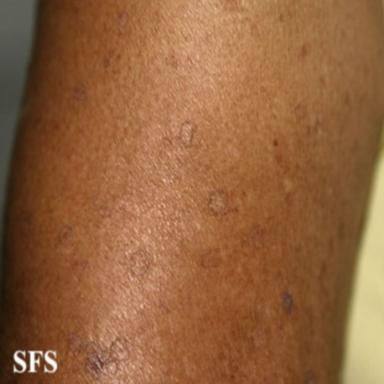Porokeratosis: (67, 333, 130, 379), (130, 249, 150, 277), (209, 190, 229, 214), (247, 225, 265, 248), (251, 327, 266, 350), (201, 251, 221, 268), (58, 224, 73, 244), (181, 123, 193, 147), (74, 84, 87, 101), (294, 103, 307, 119), (118, 11, 129, 27), (99, 206, 111, 218)
